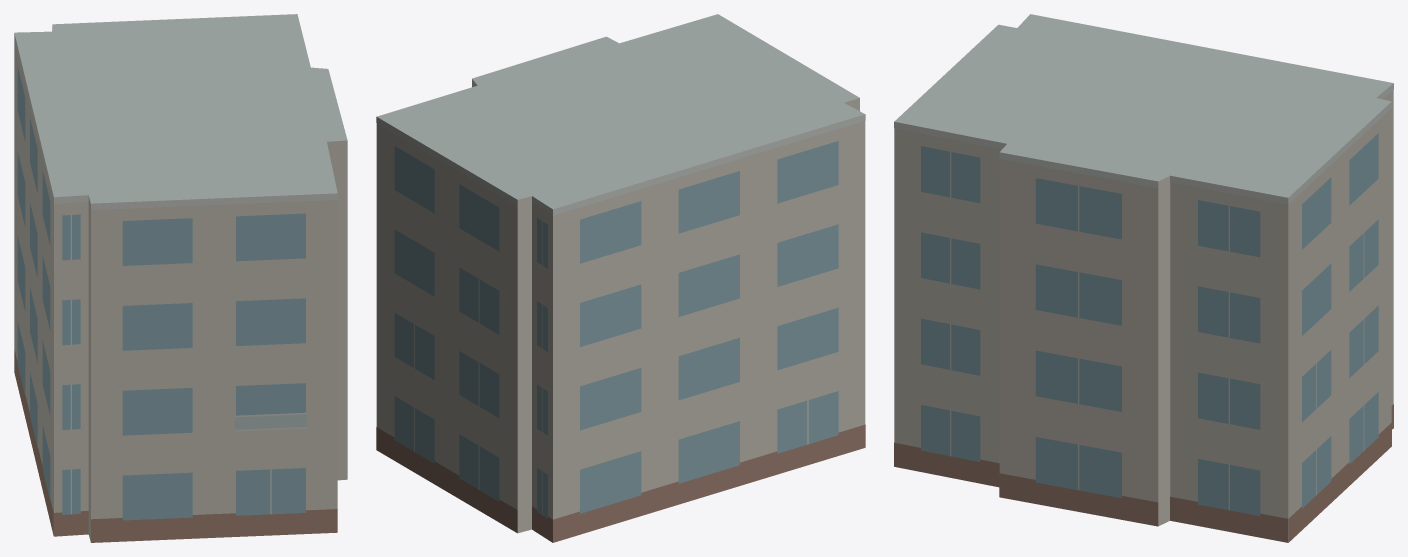
File: survey-upis-32671562.glb
3 views of the same model, side by side, from view 1: azimuth 30°, elevation 25°; view 2: azimuth 150°, elevation 25°; view 3: azimuth 270°, elevation 25° (orthographic). The views are drawn at different scales.
Parts seen in each view (by area): view 1: survey-upis-32671562.tmp; view 2: survey-upis-32671562.tmp; view 3: survey-upis-32671562.tmp.
Boxes of the visible parts, left/top/right/bottom form: survey-upis-32671562.tmp: left=14, top=14, right=347, bottom=542; survey-upis-32671562.tmp: left=376, top=14, right=865, bottom=542; survey-upis-32671562.tmp: left=894, top=14, right=1393, bottom=542.
Size of the model in its own units: 14.64 by 12.8 by 16.81.
